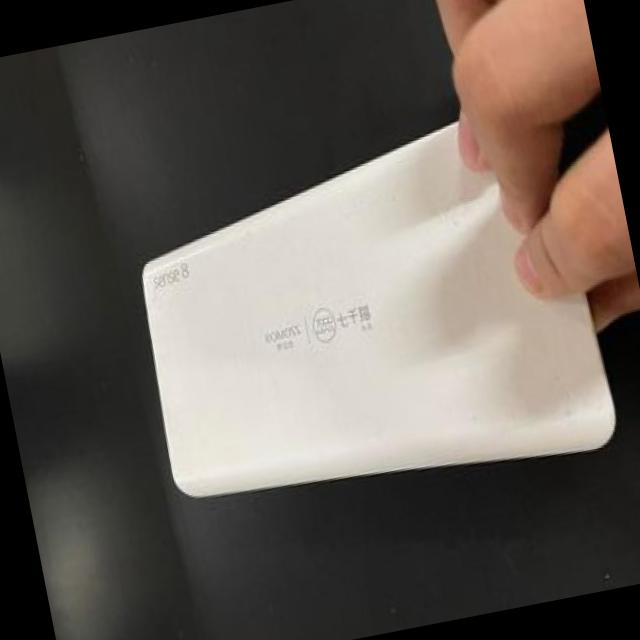portable-charger: (106, 88, 640, 538)
